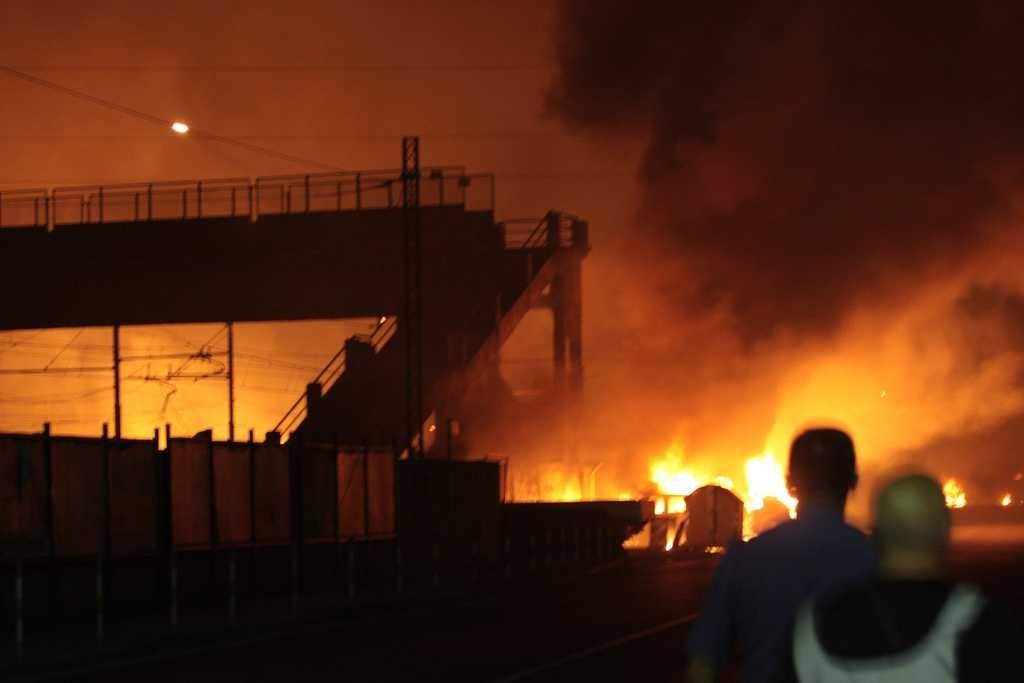fire: (646, 433, 812, 513)
smoke: (18, 18, 420, 159), (602, 285, 1006, 413)
